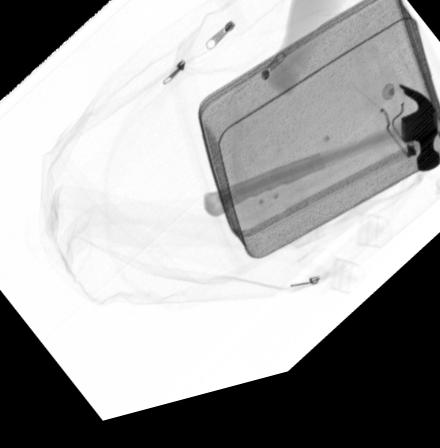Hammer: (199, 103, 440, 230)
